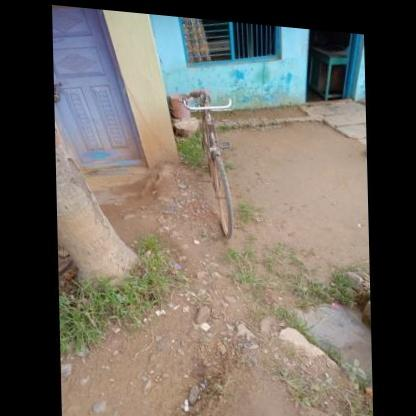Bicycle: (171, 74, 263, 258)
